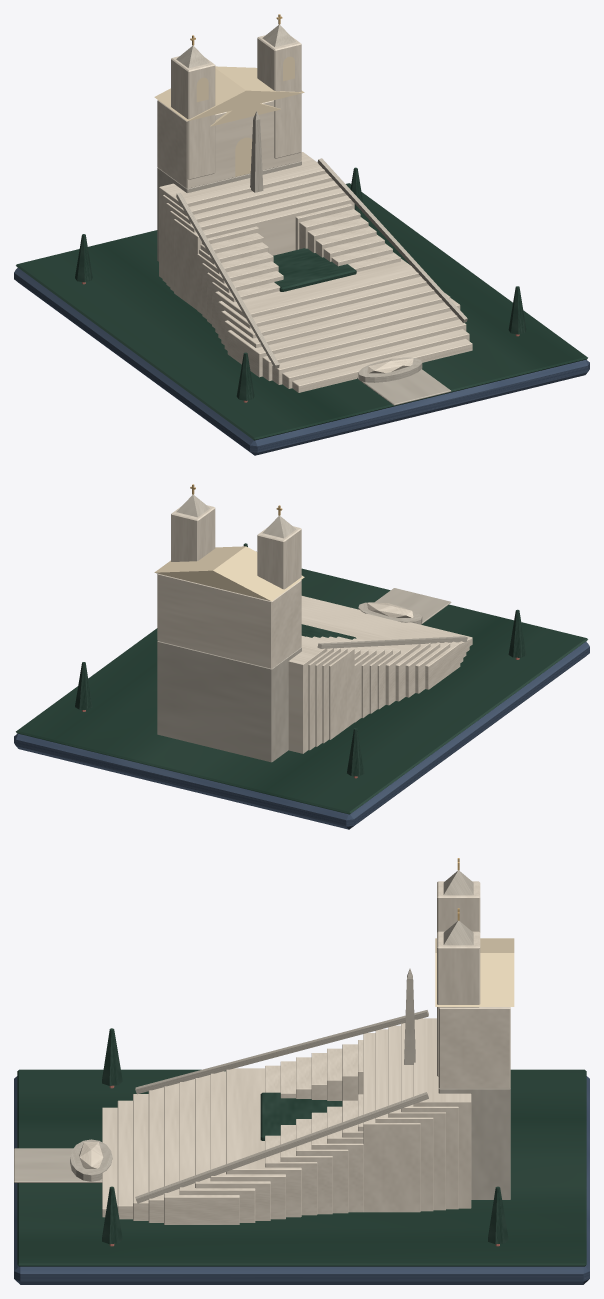
File: spanish-steps-diorama.glb
3 renders of one model, top to bottom at view 1: azimuth 30°, elevation 25°; view 2: azimuth 150°, elevation 25°; view 3: azimuth 270°, elevation 25°, orthographic. The views are drawn at different scales.
Parts seen in each view (by area): view 1: spanish-steps; view 2: spanish-steps; view 3: spanish-steps.
Boxes of the visible parts, x1,y1,x2,y2 form: spanish-steps: (14, 14, 589, 455); spanish-steps: (14, 484, 589, 829); spanish-steps: (14, 858, 589, 1284).
Size of the model in its own units: 13 by 9.35 by 16.
Materials: 1 (1 with a texture image).
